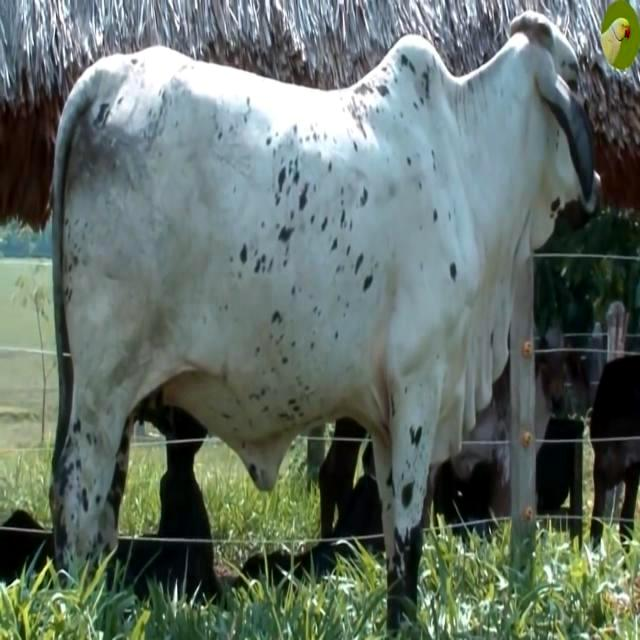COW: (52, 12, 599, 628)
